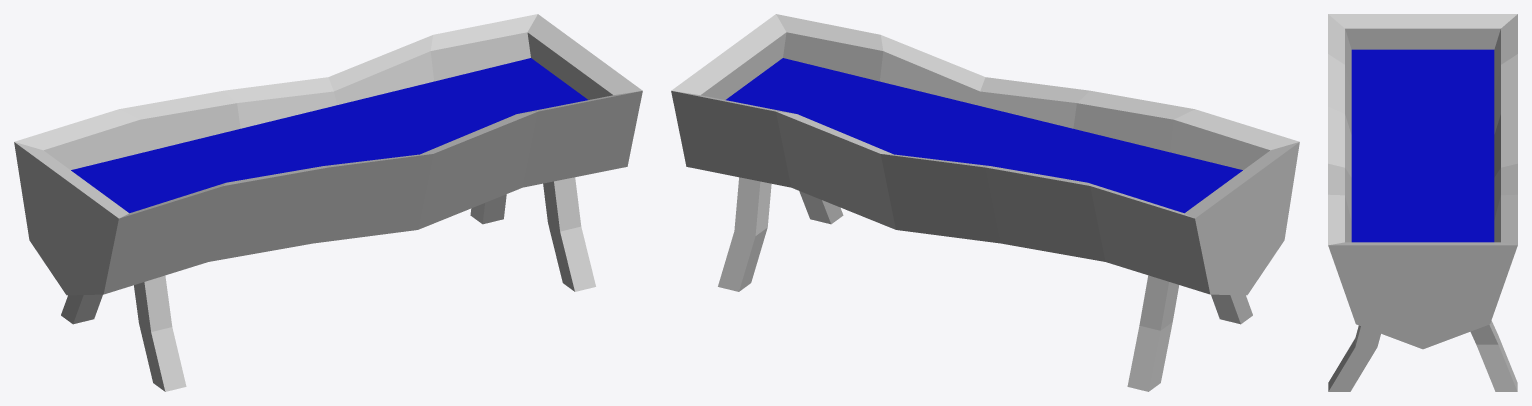
Rendered from Cocho_Agua.fbx.
The picture shows the model from 3 angles, left to right: view 1: azimuth 30°, elevation 25°; view 2: azimuth 150°, elevation 25°; view 3: azimuth 270°, elevation 25°; orthographic projection. The views are drawn at different scales.
Parts seen in each view (by area): view 1: Cocho_Agua; view 2: Cocho_Agua; view 3: Cocho_Agua.
Part boxes in pixels (x1,y1,x2,y2): Cocho_Agua: [14, 14, 642, 391]; Cocho_Agua: [671, 14, 1299, 391]; Cocho_Agua: [1328, 14, 1517, 391].
Bounding box in the file's own units: 552 × 193 × 191.
